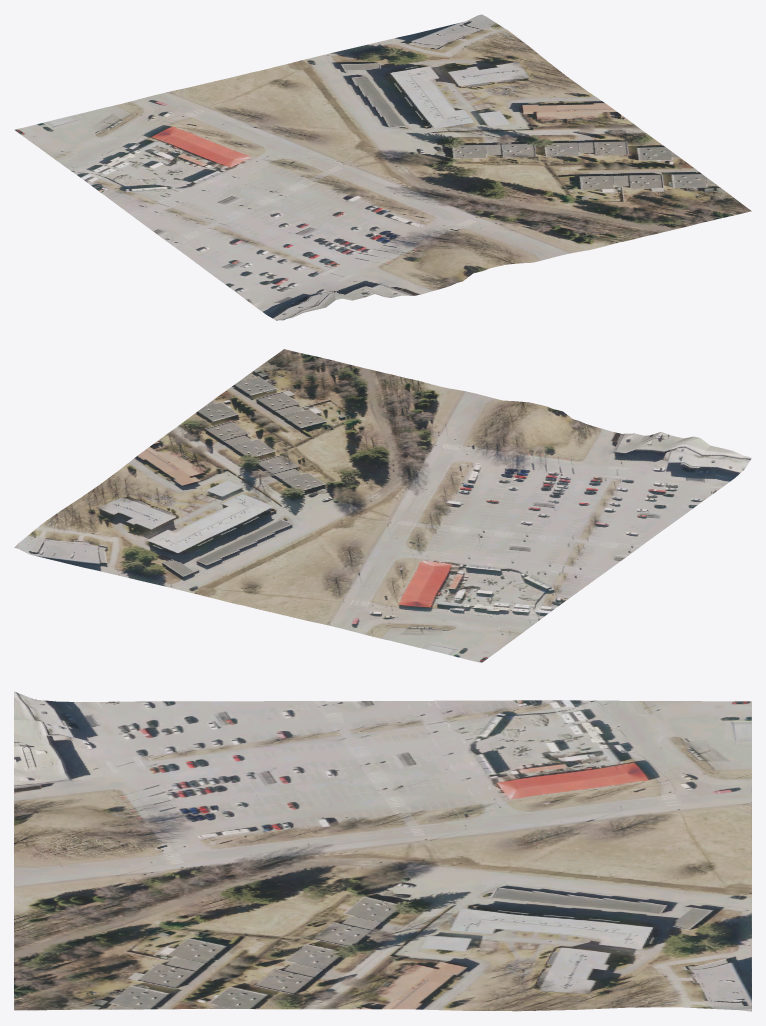
The model's file is CM_Terrain_24491482_6818565.fbx.
The picture shows the model from 3 angles, top to bottom: view 1: azimuth 30°, elevation 25°; view 2: azimuth 150°, elevation 25°; view 3: azimuth 270°, elevation 25°; orthographic projection. The views are drawn at different scales.
Visible parts, largest first — view 1: CM_Terrain_24491482_6818565_LOD0; view 2: CM_Terrain_24491482_6818565_LOD0; view 3: CM_Terrain_24491482_6818565_LOD0.
Boxes of the visible parts, <box> form: CM_Terrain_24491482_6818565_LOD0: <box>14,14,751,320</box>; CM_Terrain_24491482_6818565_LOD0: <box>14,349,751,662</box>; CM_Terrain_24491482_6818565_LOD0: <box>14,691,751,1011</box>.
Size of what is drawn, in the model's own units: 205 by 6.92 by 205.
